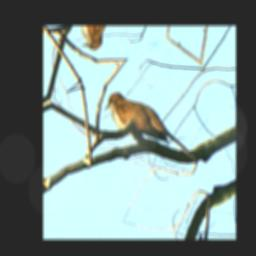Cuckoo: (101, 74, 171, 167)
